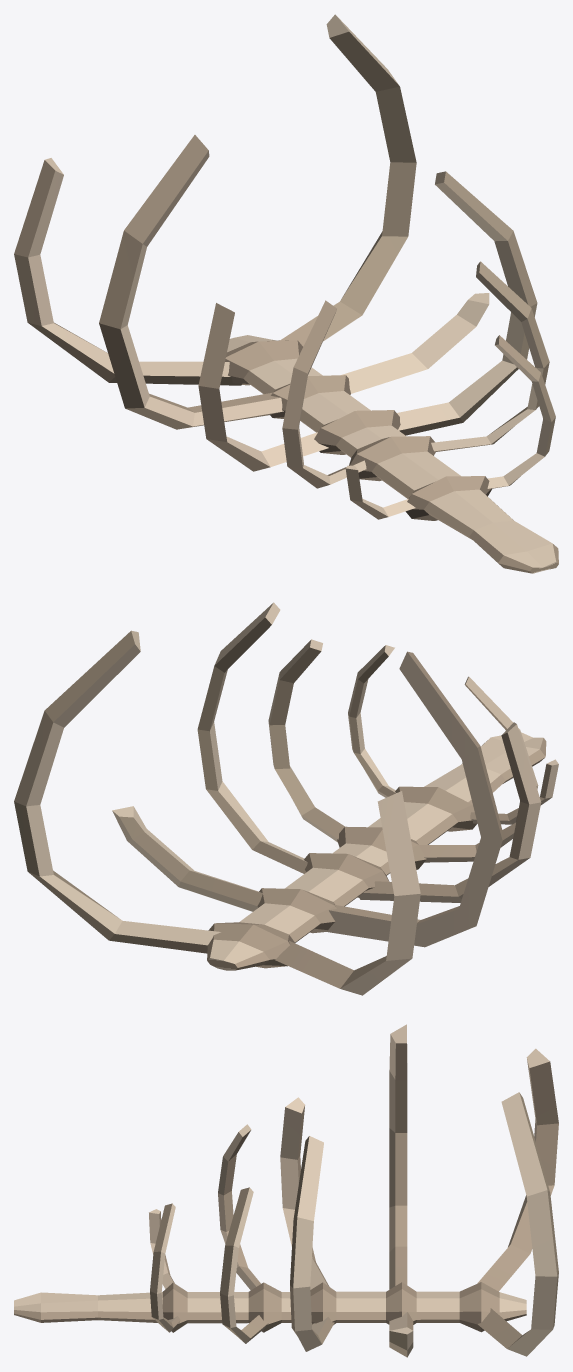
File: BonesChest_01.glb
3 views of the same model, one above another, from view 1: azimuth 30°, elevation 25°; view 2: azimuth 150°, elevation 25°; view 3: azimuth 270°, elevation 25° (orthographic). The views are drawn at different scales.
Parts seen in each view (by area): view 1: BonesChest_01; view 2: BonesChest_01; view 3: BonesChest_01.
Part boxes in pixels (box(x1,y1,x2,y2)): BonesChest_01: box(14, 14, 558, 573); BonesChest_01: box(14, 602, 558, 995); BonesChest_01: box(14, 1024, 558, 1357).
Size of the model in its own units: 0.6188 by 0.4843 by 0.8823.
Materials: 1 (1 with a texture image).
